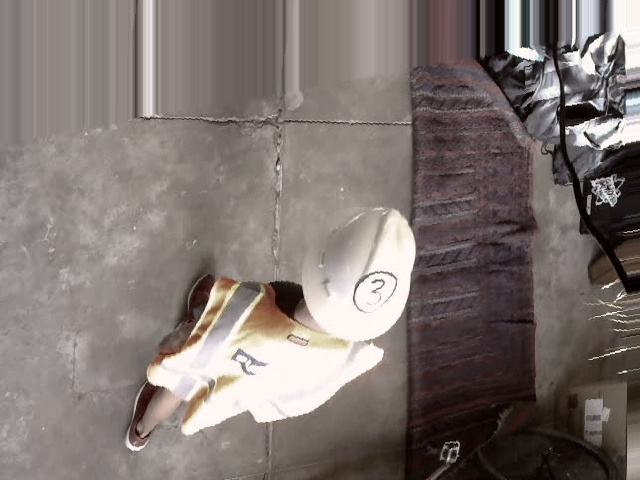three: (353, 267, 396, 316)
